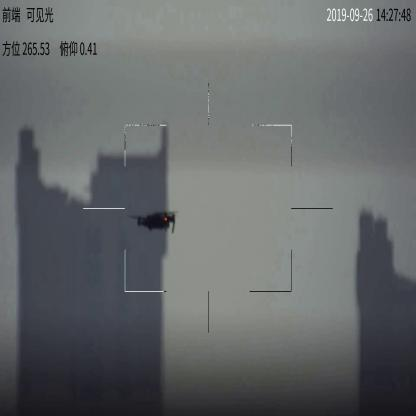uav: (126, 210, 178, 233)
